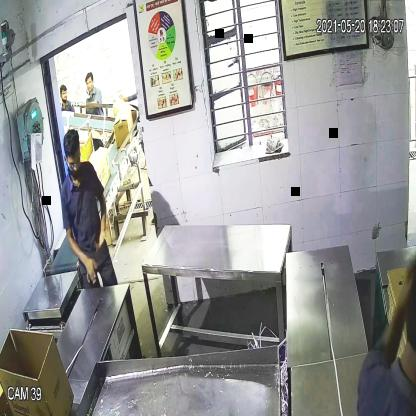goggles: (63, 153, 83, 174)
